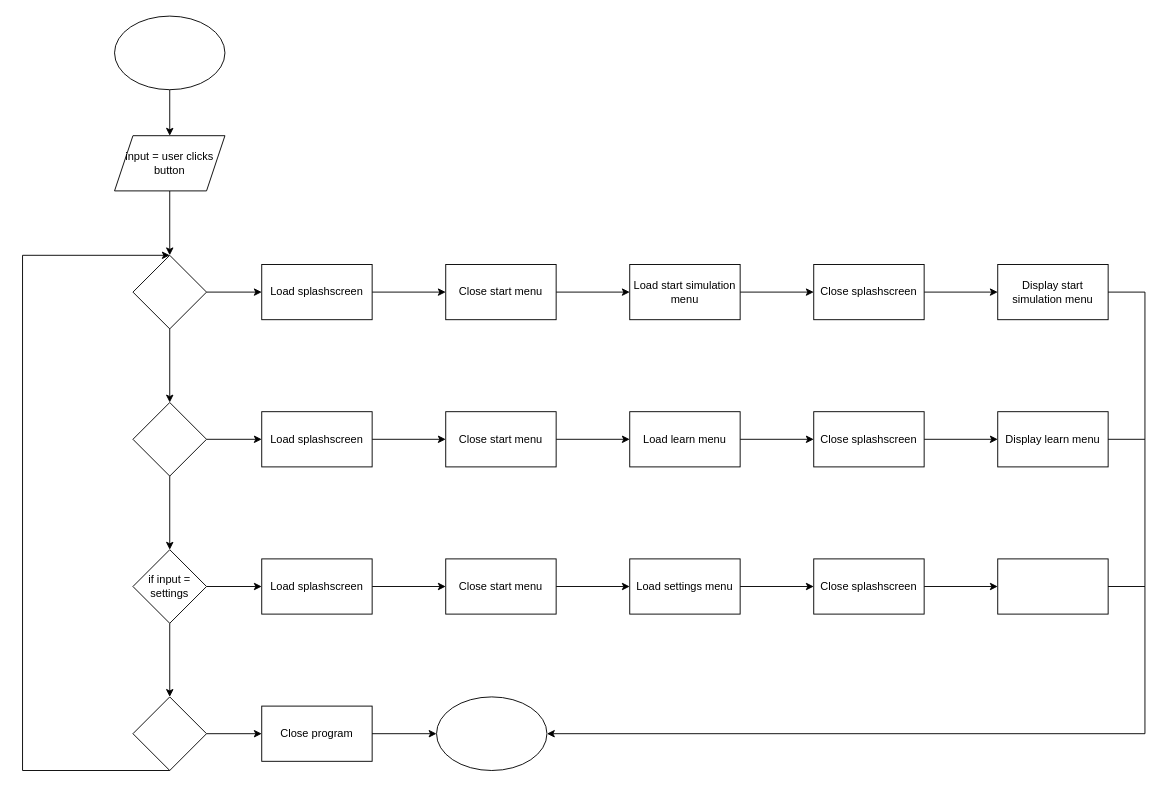
Some shapes in this 1168 by 794 pixel diagram are drawn without their labels. The shapes that lost their labels are listed below. From the top down, each one's centre as x and y in pixels, then its label:
At (169,52): "Start".
At (169,291): "if input = start sim".
At (169,439): "if input = learn".
At (1052,586): "Display settings menu".
At (169,733): "if input = exit".
At (491,733): "End".
